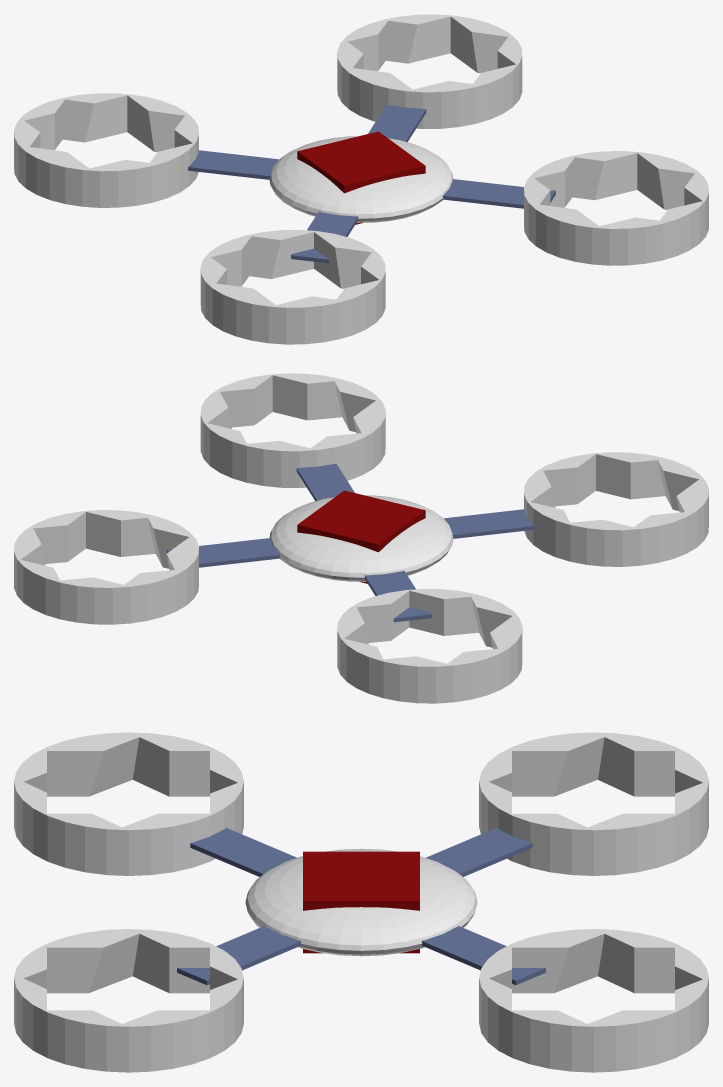
Rendered from drone.fbx.
3 views of the same model, one above another, from view 1: azimuth 30°, elevation 25°; view 2: azimuth 150°, elevation 25°; view 3: azimuth 270°, elevation 25° (orthographic). The views are drawn at different scales.
Visible parts, largest first — view 1: Cylinder.003, Cylinder.001, Cylinder, Cylinder.002, Sphere, Cube.004, Cube, Cube.001, Cube.002, Cube.003; view 2: Cylinder.002, Cylinder, Cylinder.001, Cylinder.003, Sphere, Cube.004, Cube.003, Cube.002, Cube.001, Cube; view 3: Cylinder.003, Cylinder.002, Cylinder, Cylinder.001, Sphere, Cube.004, Cube, Cube.003, Cube.002, Cube.001.
Part boxes in pixels (left/top/right/bottom): Cylinder.003: left=524, top=151, right=708, bottom=265; Cylinder.001: left=14, top=93, right=198, bottom=207; Cylinder: left=200, top=230, right=385, bottom=344; Cylinder.002: left=337, top=14, right=522, bottom=128; Sphere: left=269, top=136, right=453, bottom=222; Cube.004: left=297, top=131, right=425, bottom=224; Cube: left=188, top=150, right=278, bottom=179; Cube.001: left=442, top=179, right=555, bottom=208; Cube.002: left=368, top=104, right=426, bottom=141; Cube.003: left=291, top=212, right=358, bottom=263; Cylinder.002: left=14, top=510, right=198, bottom=624; Cylinder: left=524, top=452, right=708, bottom=566; Cylinder.001: left=337, top=589, right=522, bottom=703; Cylinder.003: left=200, top=373, right=385, bottom=487; Sphere: left=269, top=495, right=453, bottom=581; Cube.004: left=297, top=490, right=425, bottom=583; Cube.003: left=444, top=509, right=534, bottom=538; Cube.002: left=167, top=538, right=280, bottom=567; Cube.001: left=296, top=463, right=354, bottom=500; Cube: left=364, top=571, right=431, bottom=622; Cylinder.003: left=14, top=929, right=243, bottom=1072; Cylinder.002: left=479, top=929, right=708, bottom=1072; Cylinder: left=14, top=732, right=243, bottom=875; Cylinder.001: left=479, top=732, right=708, bottom=875; Sphere: left=245, top=848, right=477, bottom=956; Cube.004: left=303, top=851, right=419, bottom=953; Cube: left=425, top=827, right=532, bottom=876; Cube.003: left=190, top=827, right=297, bottom=876; Cube.002: left=421, top=926, right=545, bottom=985; Cube.001: left=177, top=926, right=301, bottom=985.
Bounding box in the file's own units: 599 × 49.53 × 598.
